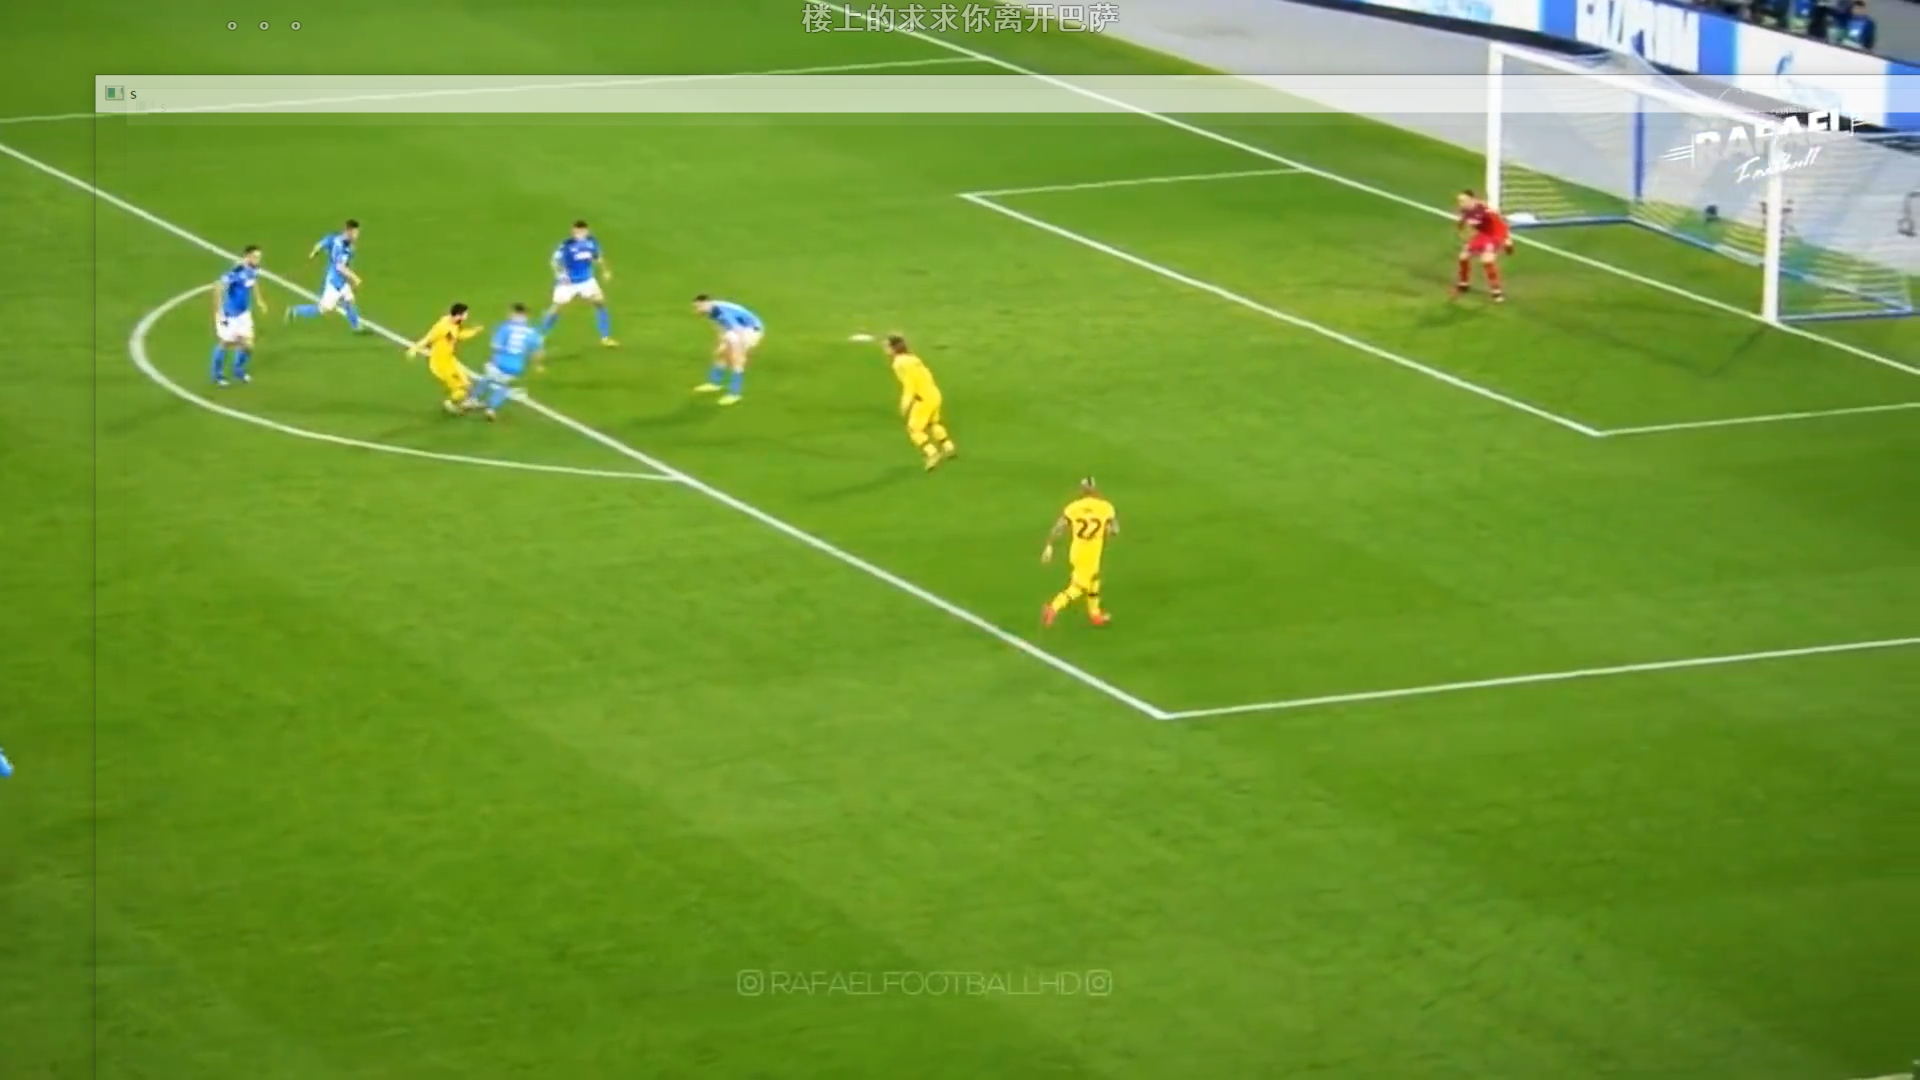ft: (506, 386, 527, 404)
